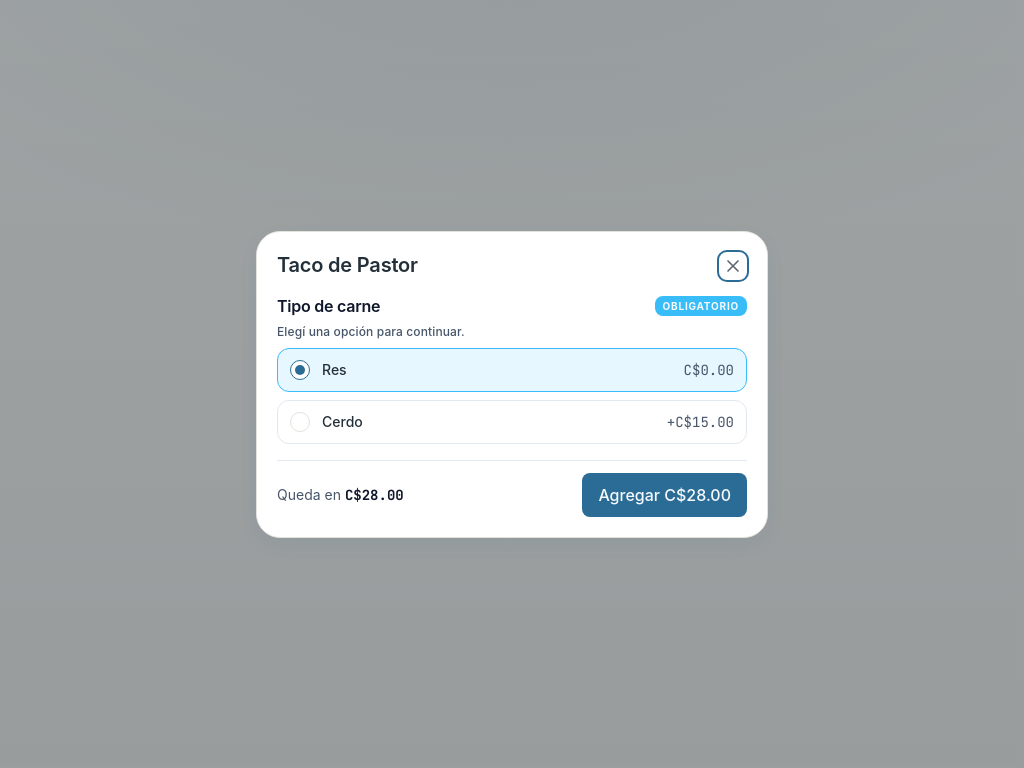
PosModifierDialog › cambiar la opción de un grupo de selección única reemplaza la anterior y ajusta el precio
What coordinates should you click on to do the following:
click the radio button labelled "Cerdo"
I would click on:
 (300, 422)
Its box is 290,412 -> 310,432.
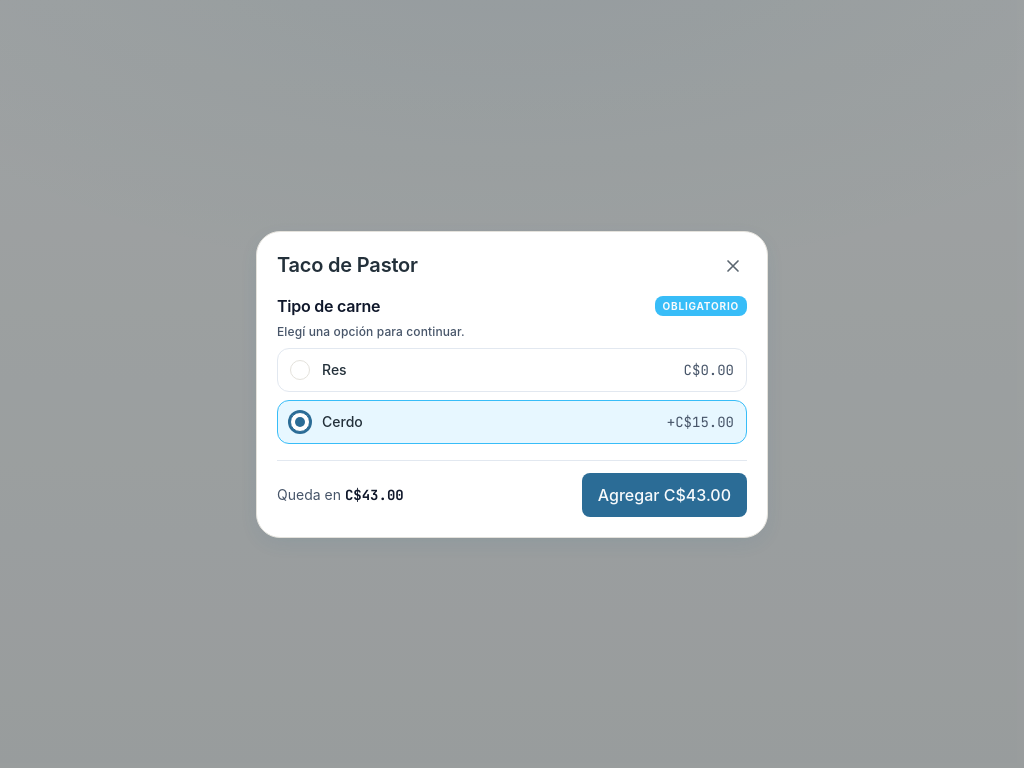
Expected: the button "Agregar C$43.00" is shown, 582,472 -> 747,516
